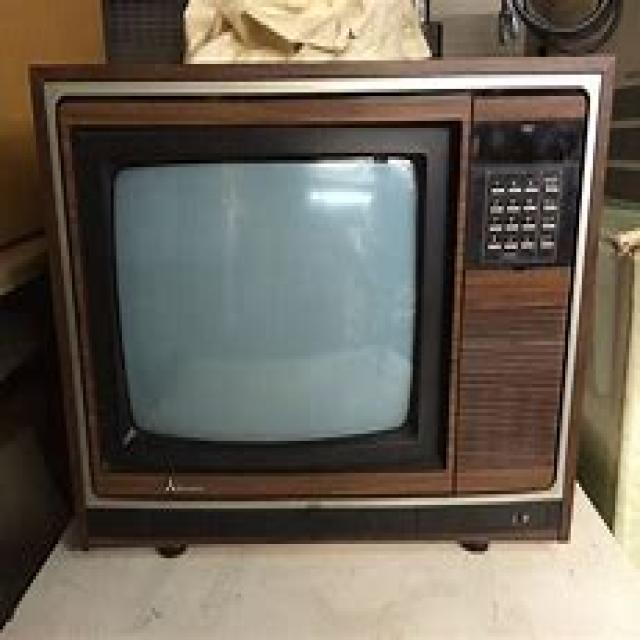tv: (28, 53, 612, 555)
